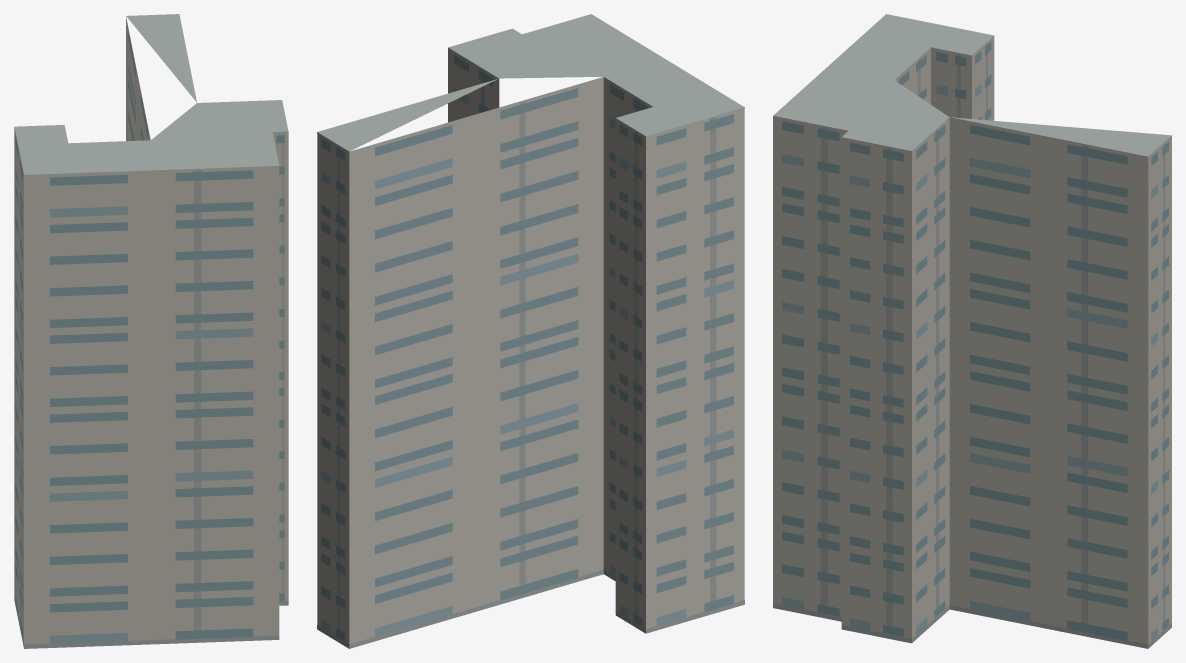
The model's file is residential-8d98499f-a051-4f90-a826-794035b54db6.glb.
The picture shows the model from 3 angles, left to right: view 1: azimuth 30°, elevation 25°; view 2: azimuth 150°, elevation 25°; view 3: azimuth 270°, elevation 25°; orthographic projection. The views are drawn at different scales.
Parts seen in each view (by area): view 1: residential-8d98499f-a051-4f90-a826-794035b54db6.tmp; view 2: residential-8d98499f-a051-4f90-a826-794035b54db6.tmp; view 3: residential-8d98499f-a051-4f90-a826-794035b54db6.tmp.
Boxes of the visible parts, <box> form: residential-8d98499f-a051-4f90-a826-794035b54db6.tmp: <box>14,14,288,648</box>; residential-8d98499f-a051-4f90-a826-794035b54db6.tmp: <box>317,14,744,648</box>; residential-8d98499f-a051-4f90-a826-794035b54db6.tmp: <box>773,14,1171,648</box>.
Bounding box in the file's own units: 53.45 × 86 × 63.15.
